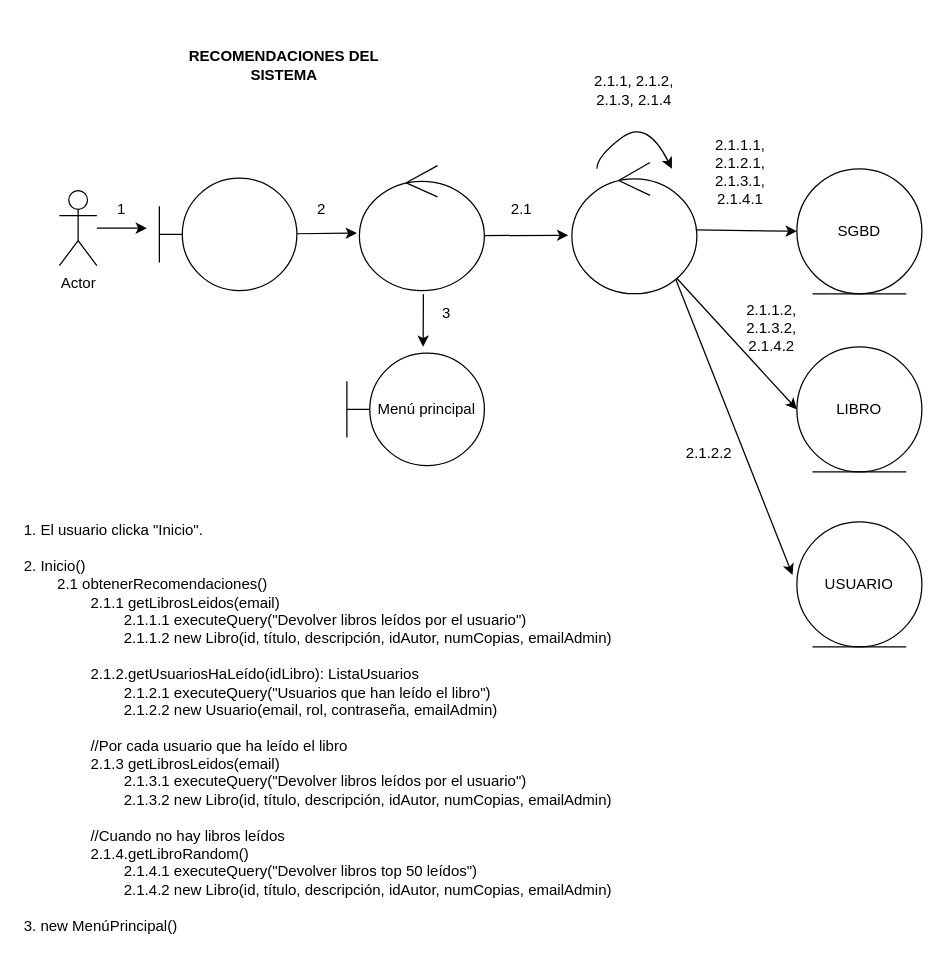
Some shapes in this 944 by 980 pixel diagram are drawn without their labels. Here are the shapes that lost their labels. From the top down, the box of each, then its label:
(158, 177, 297, 291): Cualquier vista
(358, 164, 484, 291): WebServer
(571, 161, 697, 294): Biblioteca
